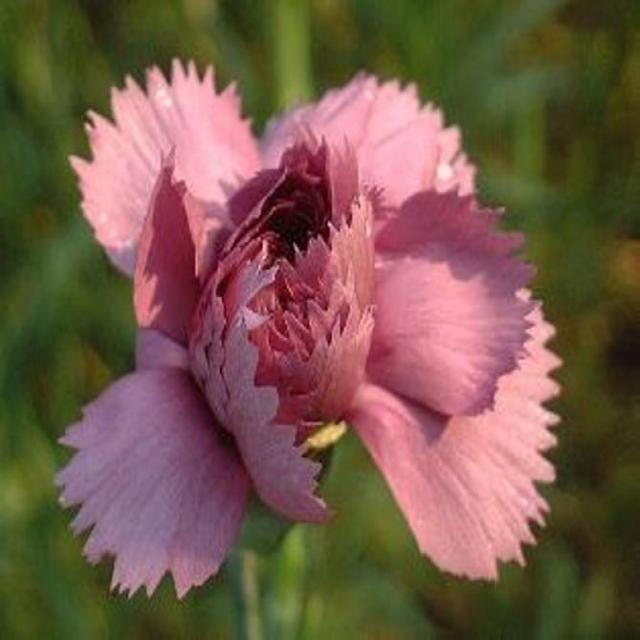carnation: (53, 56, 554, 596)
